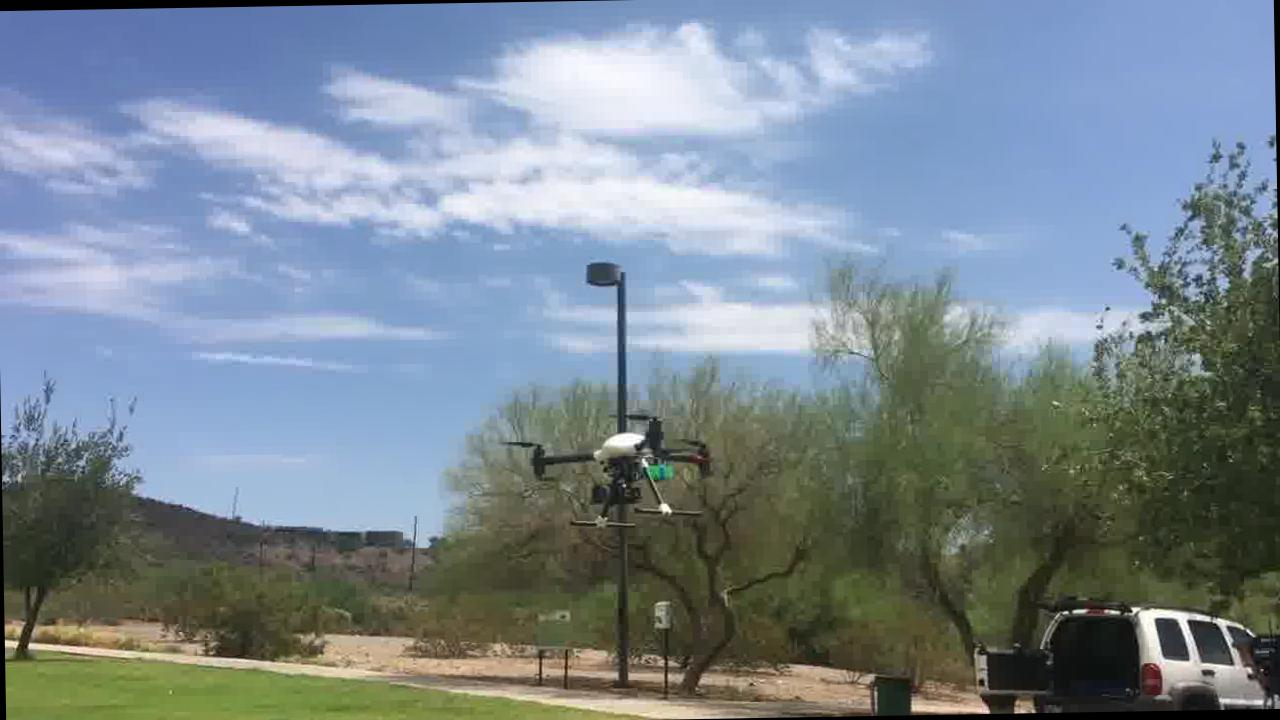drone: (528, 408, 714, 529)
